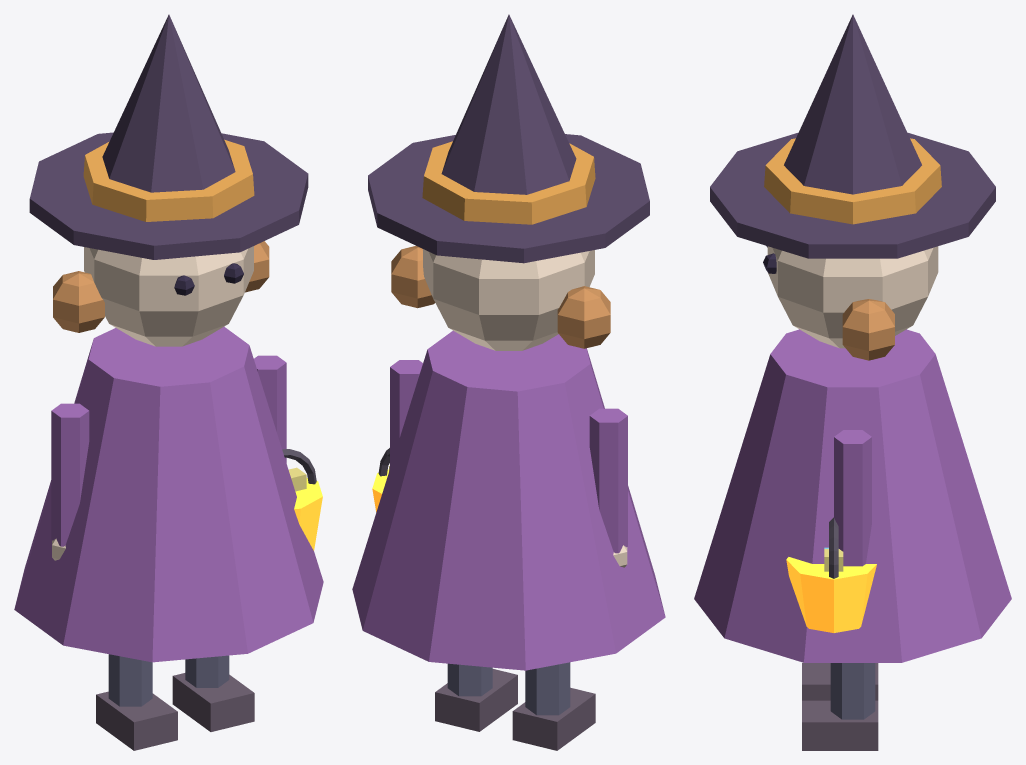
File: witch_kid.glb
The picture shows the model from 3 angles, left to right: view 1: azimuth 30°, elevation 25°; view 2: azimuth 150°, elevation 25°; view 3: azimuth 270°, elevation 25°; orthographic projection.
Visible parts, largest first — view 1: WitchKid; view 2: WitchKid; view 3: WitchKid.
Part boxes in pixels (bbox=[...]): WitchKid: bbox=[14, 14, 323, 750]; WitchKid: bbox=[352, 14, 665, 750]; WitchKid: bbox=[694, 14, 1011, 750].
Bounding box in the file's own units: 0.7096 × 1.77 × 0.72.
